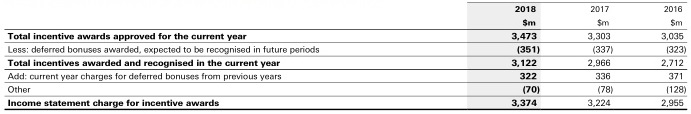column: (7, 1, 320, 113), (510, 1, 540, 114), (587, 1, 615, 114), (660, 1, 687, 114)
row: (1, 45, 690, 54), (1, 58, 690, 67), (1, 5, 691, 13), (1, 18, 690, 26), (1, 32, 690, 40), (1, 72, 690, 80), (1, 85, 690, 93), (1, 99, 690, 107)
